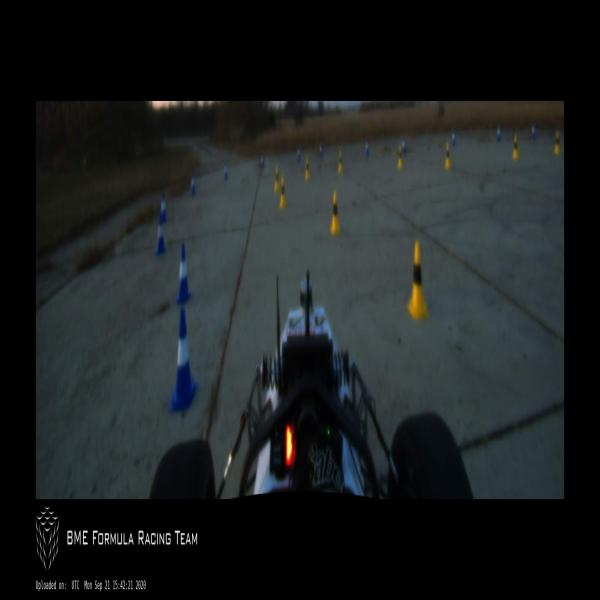blue_cone: (168, 309, 198, 411), (176, 245, 191, 305), (154, 215, 167, 254), (160, 192, 168, 223), (190, 172, 196, 196), (531, 123, 536, 140), (224, 161, 228, 180), (365, 139, 369, 158), (402, 136, 406, 154), (452, 129, 456, 146), (319, 144, 323, 160), (496, 127, 500, 141), (260, 155, 264, 168), (298, 148, 300, 161)
yellow_cone: (407, 242, 428, 320), (331, 190, 340, 234), (554, 129, 562, 157), (444, 143, 452, 169), (280, 177, 286, 208), (513, 135, 519, 159), (397, 146, 403, 169), (274, 165, 279, 192), (305, 156, 310, 180), (338, 152, 343, 174)
